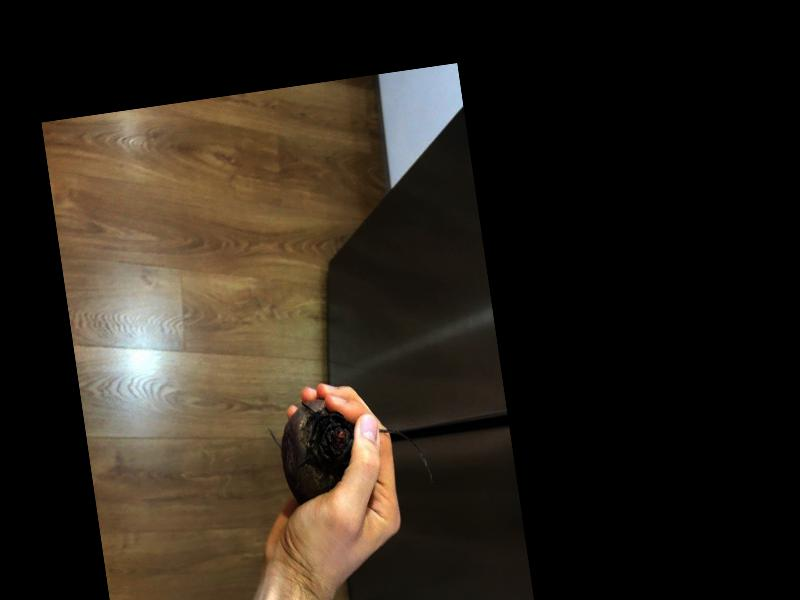Beet: (274, 383, 434, 506)
